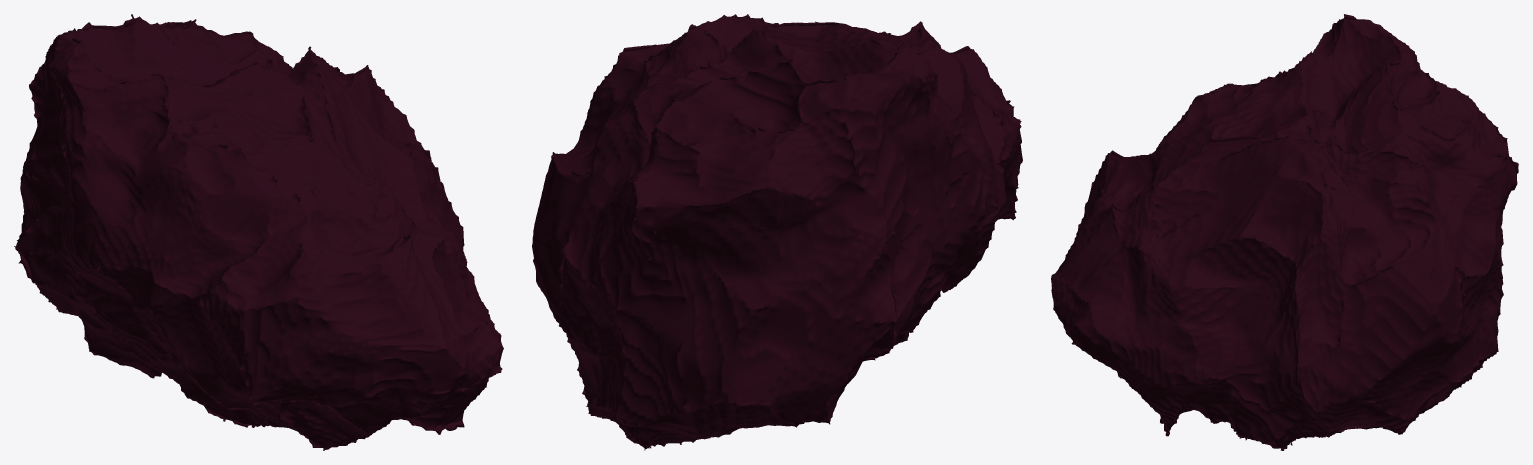
Rendered from meteorite3.fbx.
3 renders of one model, left to right at view 1: azimuth 30°, elevation 25°; view 2: azimuth 150°, elevation 25°; view 3: azimuth 270°, elevation 25°, orthographic. The views are drawn at different scales.
Parts seen in each view (by area): view 1: meteorite3; view 2: meteorite3; view 3: meteorite3.
Part boxes in pixels (box(x1,y1,x2,y2)): meteorite3: box(14, 14, 503, 450); meteorite3: box(532, 14, 1022, 450); meteorite3: box(1051, 14, 1518, 450).
Size of the model in its own units: 26.92 by 26.4 by 33.55.
